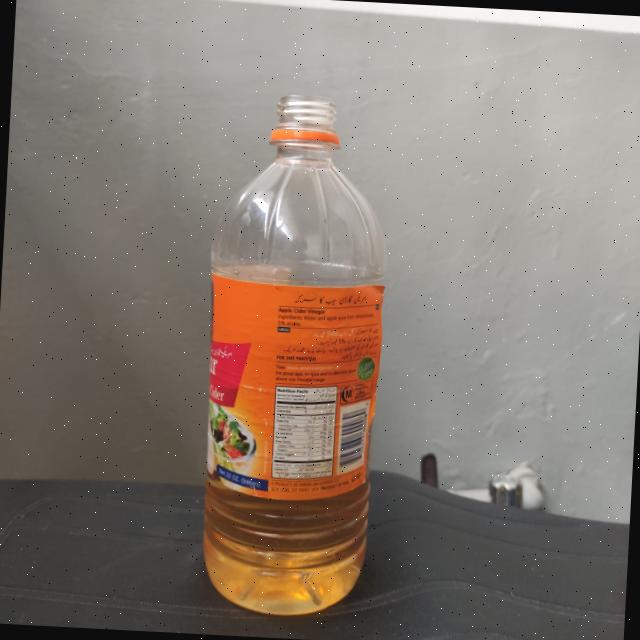bottle: (180, 90, 416, 626)
label: (196, 273, 394, 508)
